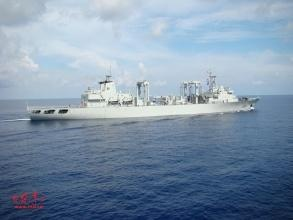warship: (21, 66, 262, 119)
